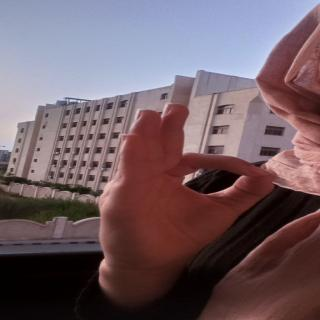Space: (92, 101, 278, 262)
